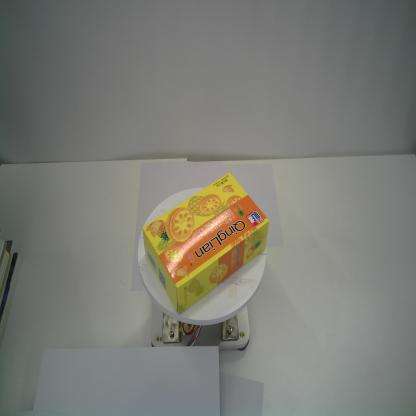Dessert: (142, 173, 270, 316)
